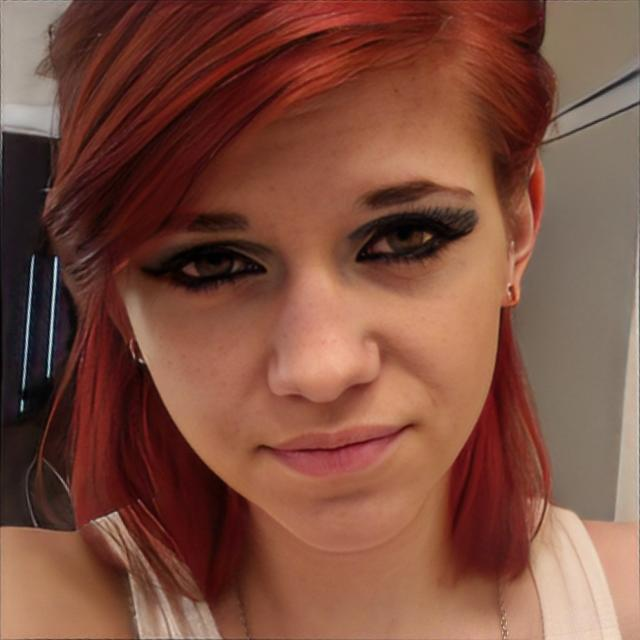disgust: (116, 47, 503, 554)
